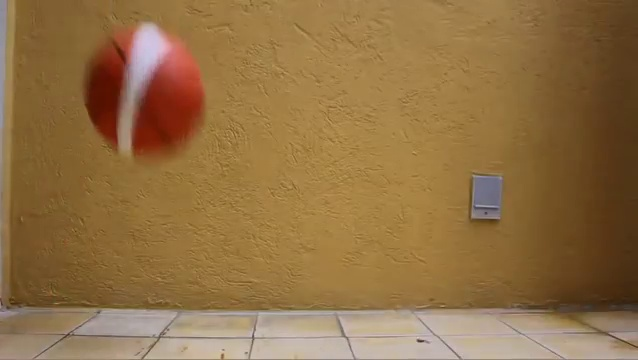ball: (84, 20, 206, 166)
